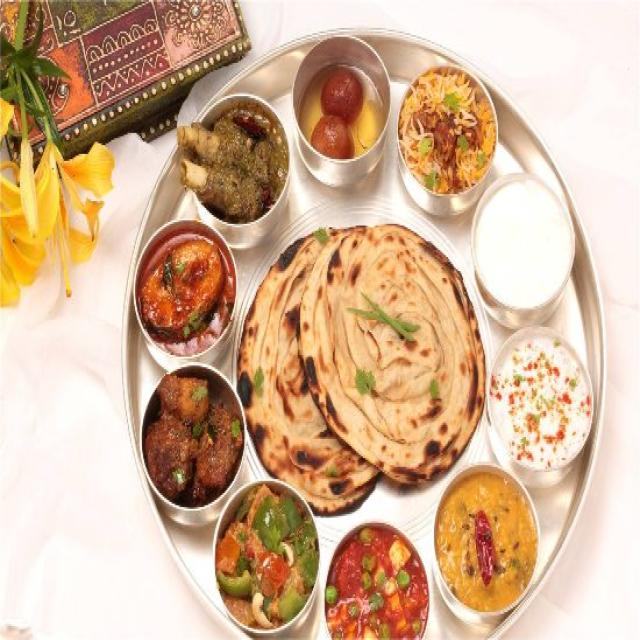non veg meals: (123, 25, 608, 640)
